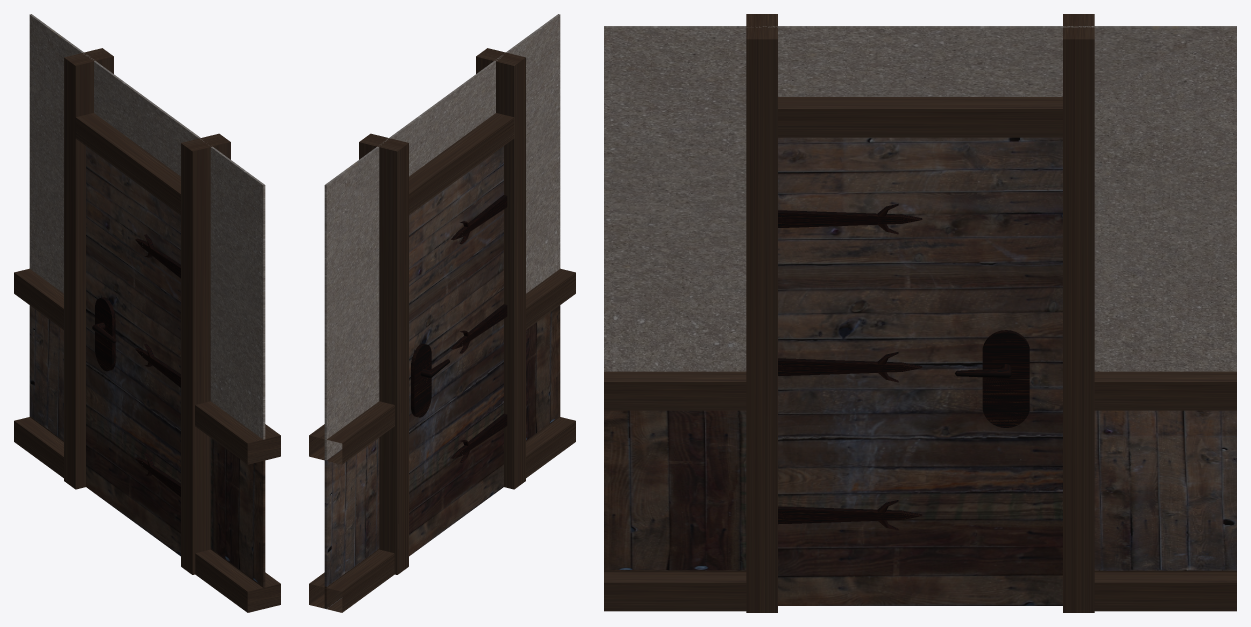
File: OutdoorArchitecture_BasicWall02_Door01_Closed_NoEdges_BShortt.fbx
3 views of the same model, side by side, from view 1: azimuth 30°, elevation 25°; view 2: azimuth 150°, elevation 25°; view 3: azimuth 270°, elevation 25° (orthographic). The views are drawn at different scales.
Parts seen in each view (by area): view 1: OutdoorArchitecture_BasicWall02_Door01_Closed_NoEdges_BShort; view 2: OutdoorArchitecture_BasicWall02_Door01_Closed_NoEdges_BShort; view 3: OutdoorArchitecture_BasicWall02_Door01_Closed_NoEdges_BShort.
Boxes of the visible parts, x1,y1,x2,y2 form: OutdoorArchitecture_BasicWall02_Door01_Closed_NoEdges_BShort: (14,14,280,612); OutdoorArchitecture_BasicWall02_Door01_Closed_NoEdges_BShort: (309,14,575,612); OutdoorArchitecture_BasicWall02_Door01_Closed_NoEdges_BShort: (604,14,1236,612).
Size of the model in its own units: 33.12 by 300 by 300.
